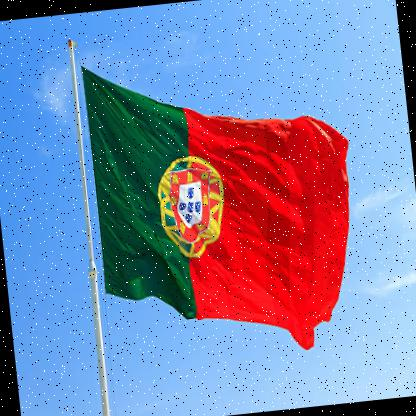pt: (76, 32, 370, 372)
